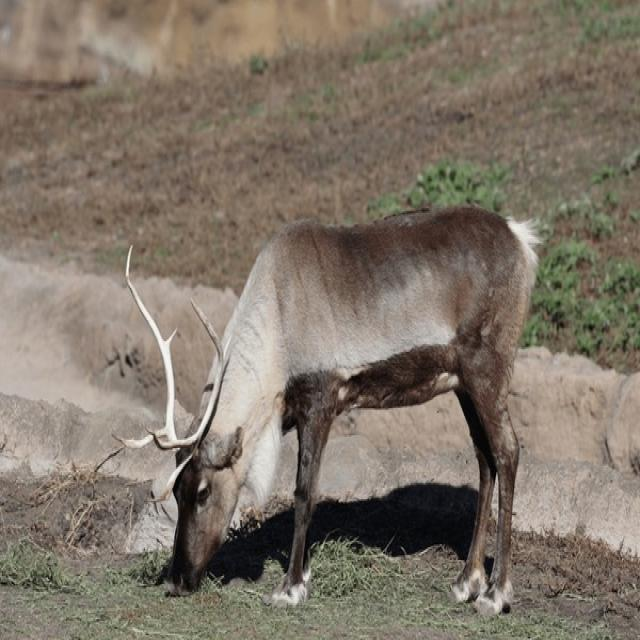Reindeer: (125, 202, 534, 614)
